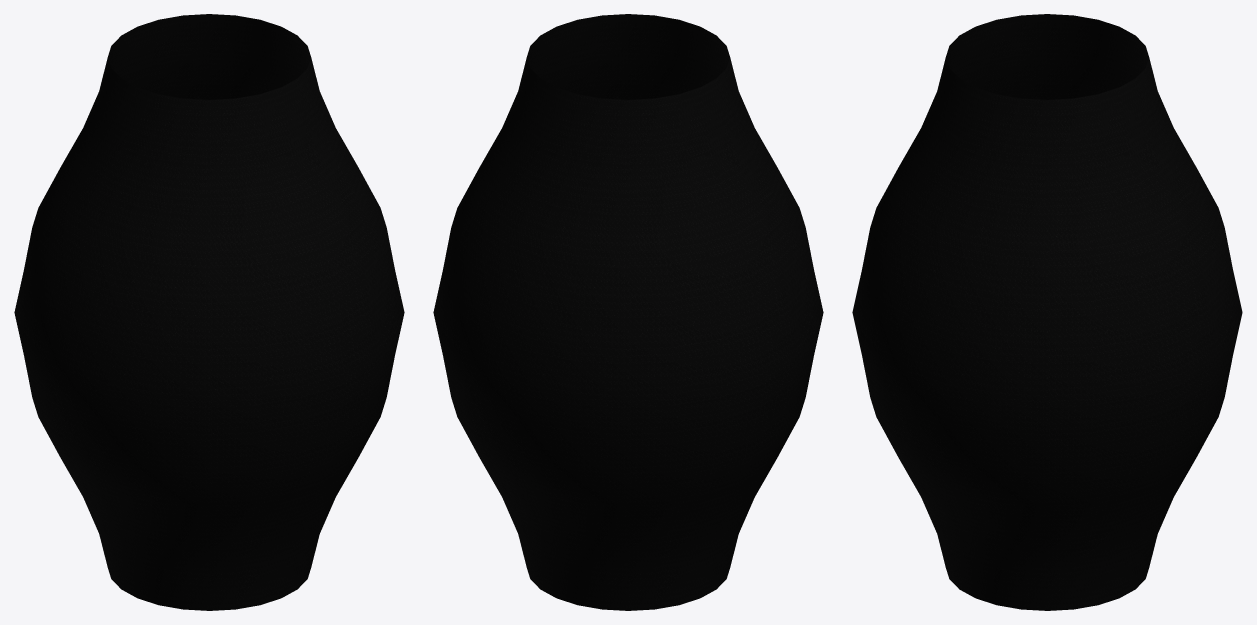
The model's file is Snow_Tube.FBX.
3 views of the same model, side by side, from view 1: azimuth 30°, elevation 25°; view 2: azimuth 150°, elevation 25°; view 3: azimuth 270°, elevation 25° (orthographic).
Parts seen in each view (by area): view 1: Snow_Tube; view 2: Snow_Tube; view 3: Snow_Tube.
Part boxes in pixels (x1=…): Snow_Tube: x1=14, y1=14, x2=404, y2=610; Snow_Tube: x1=433, y1=14, x2=823, y2=610; Snow_Tube: x1=852, y1=14, x2=1242, y2=610.
Bounding box in the file's own units: 0.4769 × 0.6894 × 0.4769.
